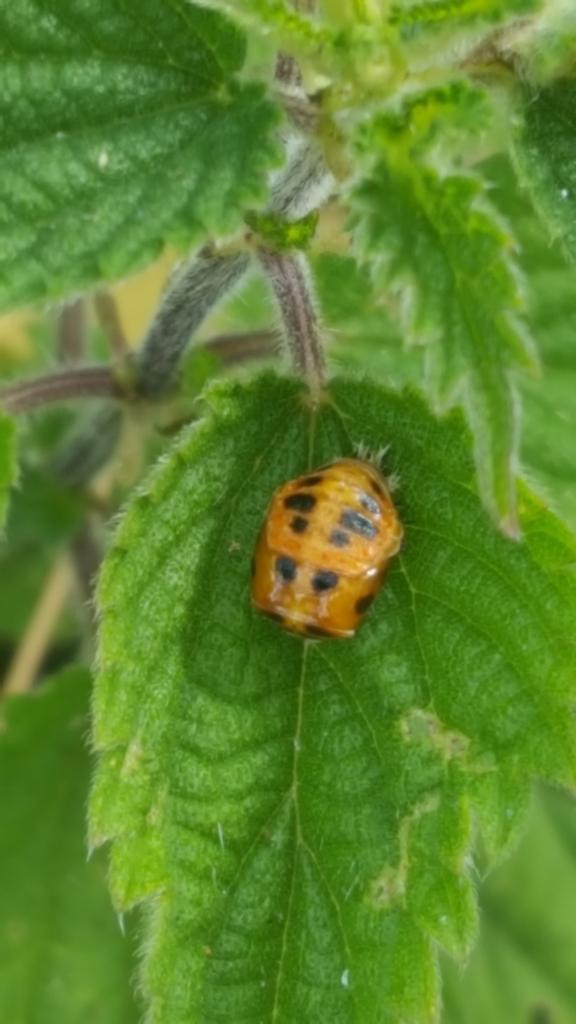ladybug: (246, 454, 411, 646)
